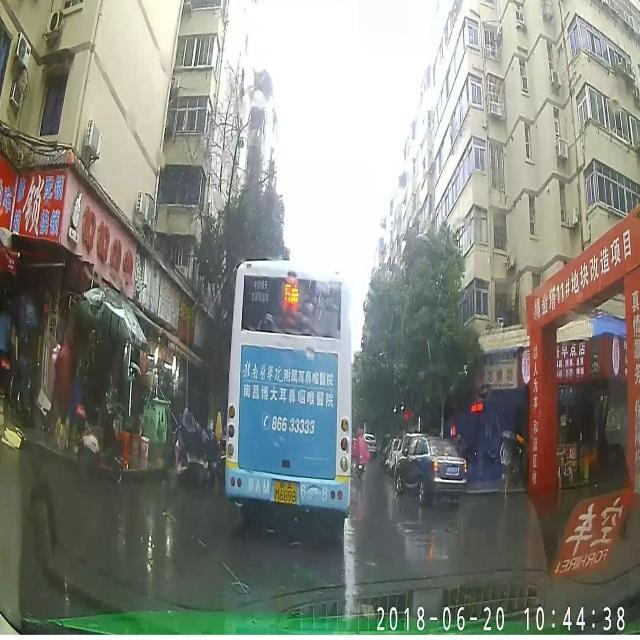car: (397, 432, 468, 505)
